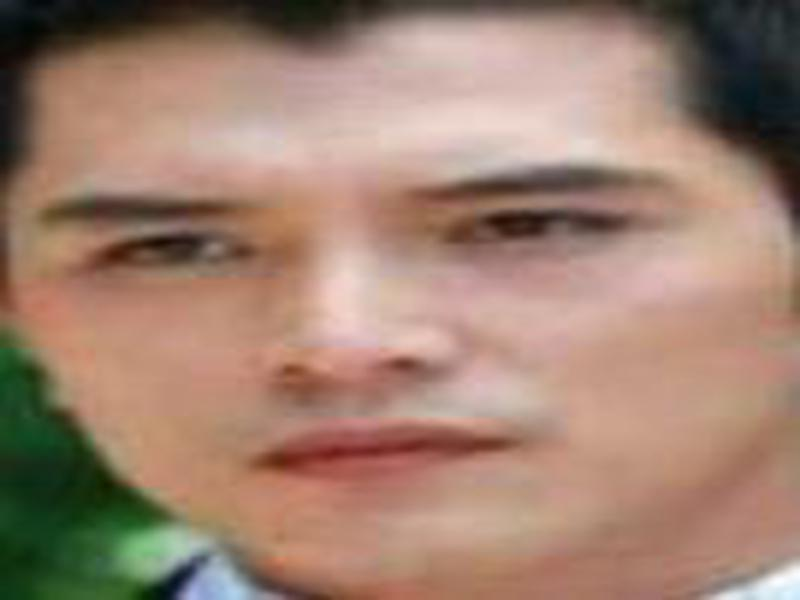without_mask: (11, 34, 798, 588)
